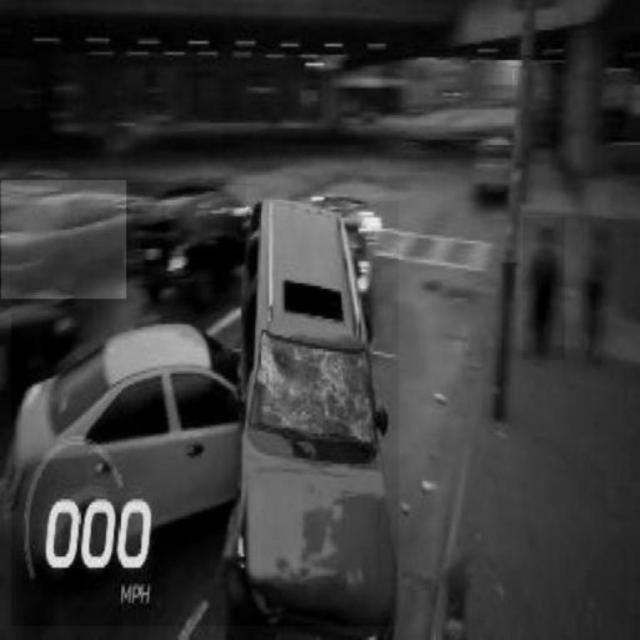accident: (12, 202, 399, 626)
person: (523, 217, 565, 361)
vehicle: (2, 181, 126, 299), (128, 183, 246, 305)
